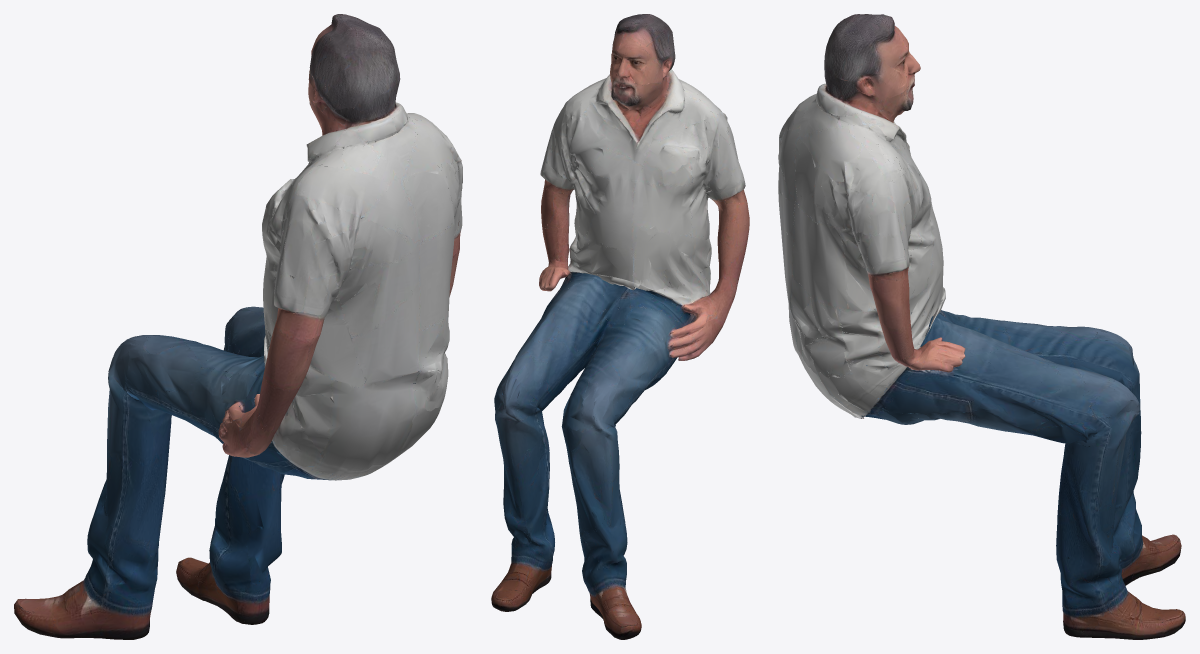
File: passenger-a-seated.glb
3 renders of one model, left to right at view 1: azimuth 30°, elevation 25°; view 2: azimuth 150°, elevation 25°; view 3: azimuth 270°, elevation 25°, orthographic. The views are drawn at different scales.
Visible parts, largest first — view 1: passenger-a-seated / posed source mesh; view 2: passenger-a-seated / posed source mesh; view 3: passenger-a-seated / posed source mesh.
Boxes of the visible parts, <box> form: passenger-a-seated / posed source mesh: <box>14,14,462,639</box>; passenger-a-seated / posed source mesh: <box>491,14,749,639</box>; passenger-a-seated / posed source mesh: <box>778,14,1185,639</box>.
Size of the model in its own units: 0.674 by 1.56 by 0.9508.
1 material, 1 textured.
